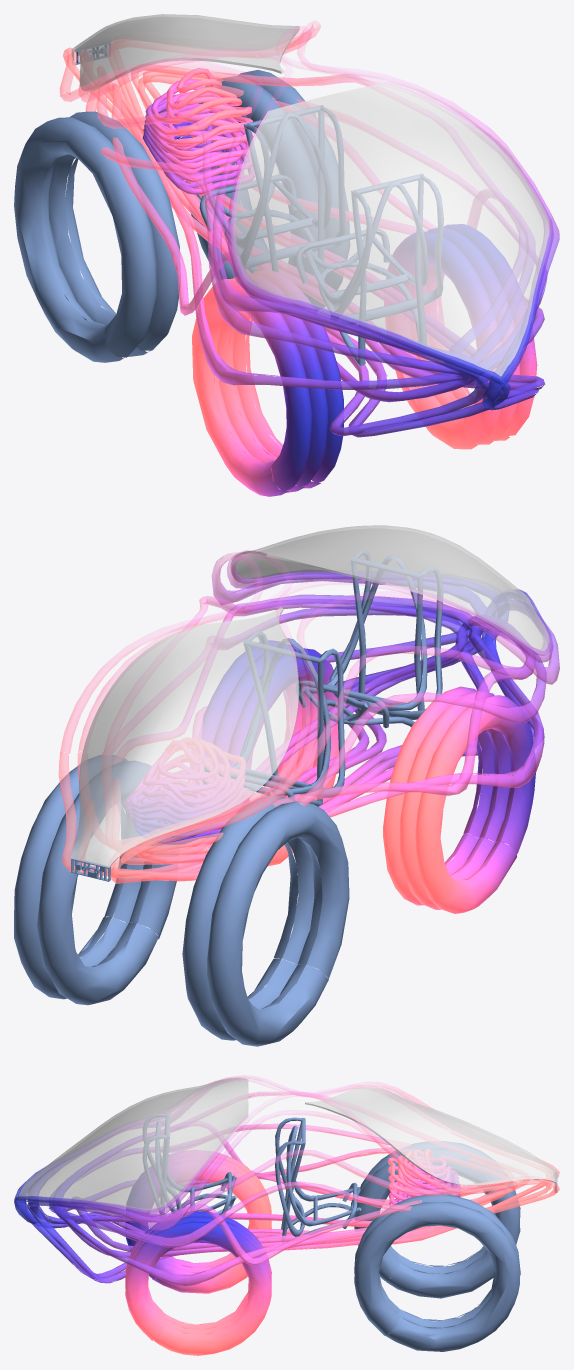
File: XXX-MarsDEADLeaf-BLUPINKPURP-v19.glb
The picture shows the model from 3 angles, top to bottom: view 1: azimuth 30°, elevation 25°; view 2: azimuth 150°, elevation 25°; view 3: azimuth 270°, elevation 25°; orthographic projection. The views are drawn at different scales.
Visible parts, largest first — view 1: Merged Objects, XXX-MarsDEADLeaf-BLUPINKPURP, Merged Objects 10, Merged Objects 11, MOTORS; view 2: Merged Objects 10, Merged Objects, XXX-MarsDEADLeaf-BLUPINKPURP, Merged Objects 11, MOTORS; view 3: XXX-MarsDEADLeaf-BLUPINKPURP, Merged Objects, Merged Objects 10, Merged Objects 11, MOTORS.
Boxes of the visible parts, x1,y1,x2,y2 form: Merged Objects: (72, 14, 551, 378); XXX-MarsDEADLeaf-BLUPINKPURP: (59, 21, 559, 437); Merged Objects 10: (14, 42, 443, 365); Merged Objects 11: (192, 224, 537, 496); MOTORS: (142, 68, 254, 194); Merged Objects 10: (14, 550, 442, 1046); Merged Objects: (71, 525, 550, 867); XXX-MarsDEADLeaf-BLUPINKPURP: (58, 550, 559, 883); Merged Objects 11: (196, 640, 535, 913); MOTORS: (124, 737, 245, 844); XXX-MarsDEADLeaf-BLUPINKPURP: (14, 1075, 559, 1285); Merged Objects: (18, 1078, 557, 1212); Merged Objects 10: (142, 1114, 557, 1351); Merged Objects 11: (125, 1150, 271, 1355); MOTORS: (387, 1149, 460, 1206).
Bounding box in the file's own units: 2.39 × 2.42 × 5.23.
Materials: 5 (3 with a texture image).
